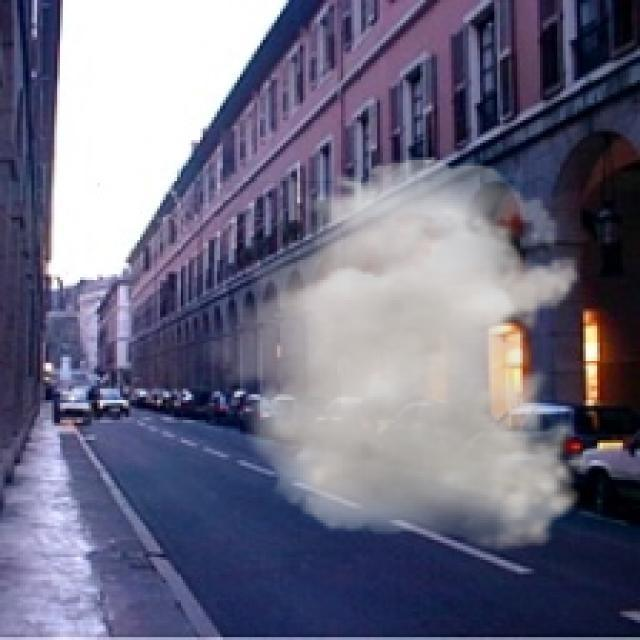Smoke: (194, 157, 592, 552)
